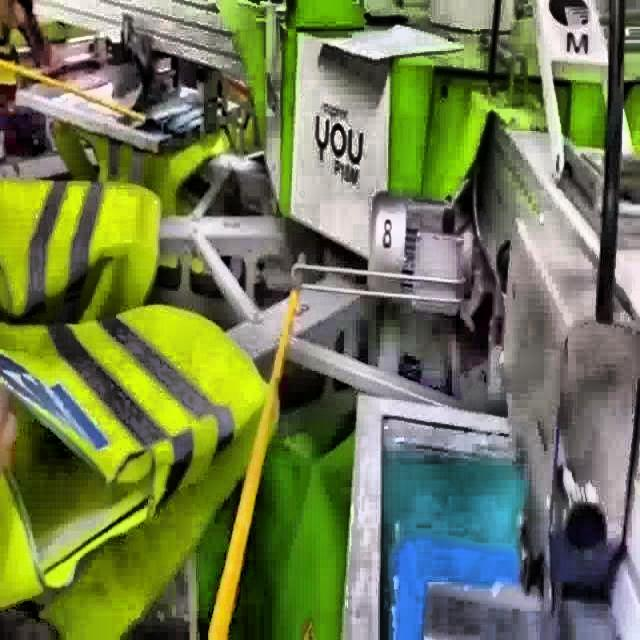safety_jacket: (0, 314, 275, 640), (1, 179, 163, 321)
